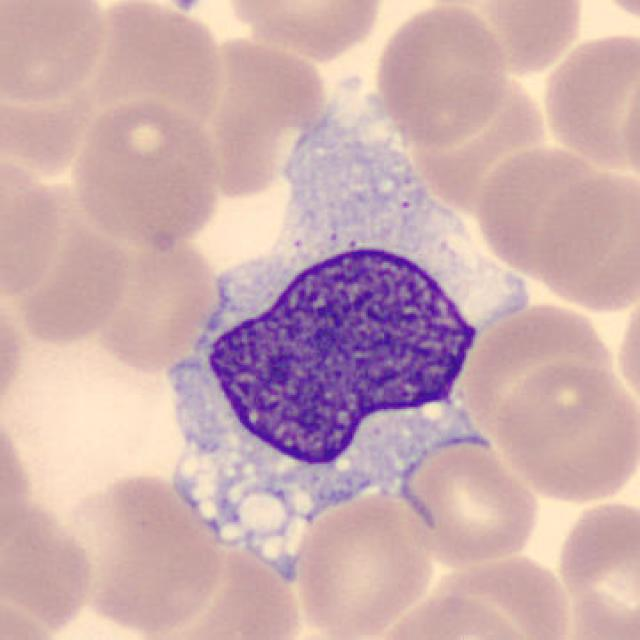Monocyte: (153, 210, 494, 562)
Platelets: (164, 0, 208, 14)
RBC: (55, 467, 229, 635), (66, 94, 226, 250), (290, 483, 439, 640), (470, 141, 630, 287), (491, 360, 638, 506), (176, 46, 326, 186), (391, 433, 544, 568), (65, 3, 217, 138), (372, 2, 510, 146), (87, 229, 222, 374), (409, 67, 548, 205), (15, 181, 126, 345), (528, 166, 640, 314), (150, 538, 301, 640), (537, 27, 640, 175), (419, 546, 576, 640), (0, 490, 101, 633), (551, 494, 638, 638), (432, 0, 590, 78), (0, 0, 112, 106), (0, 160, 70, 306), (220, 0, 388, 60), (369, 589, 532, 640), (0, 282, 30, 423), (0, 589, 66, 640), (588, 0, 639, 35)
